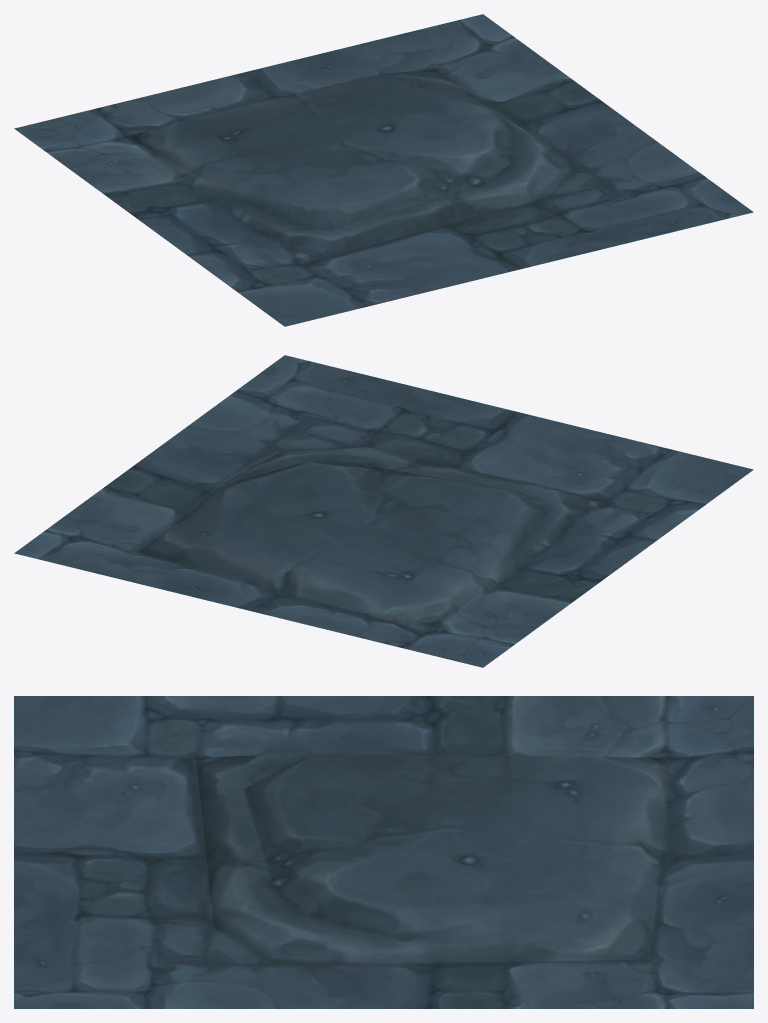
File: tile_03.fbx
3 renders of one model, top to bottom at view 1: azimuth 30°, elevation 25°; view 2: azimuth 150°, elevation 25°; view 3: azimuth 270°, elevation 25°, orthographic. The views are drawn at different scales.
Parts seen in each view (by area): view 1: tile_03; view 2: tile_03; view 3: tile_03.
Boxes of the visible parts, <box> form: tile_03: <box>14,14,753,326</box>; tile_03: <box>14,355,753,667</box>; tile_03: <box>14,696,753,1008</box>.
Size of the model in its own units: 200 by 7.87 by 200.
